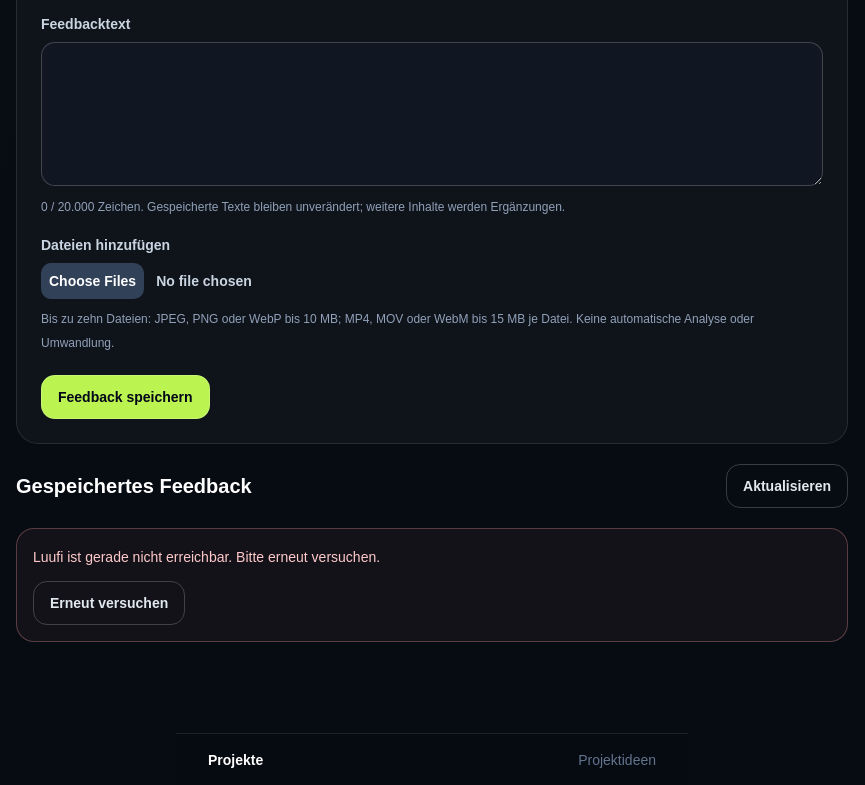
it: LUUFI-12 Feedback lesen und ergänzen › wiederholt einen fehlgeschlagenen Leseabruf und erklärt leere Listen
(page scrolled)
Check: the message shows "nicht erreichbar", box [33,549,380,565]
Click the button "Erneut versuchen" at [109, 603], box [33,581,185,625]
(page scrolled)
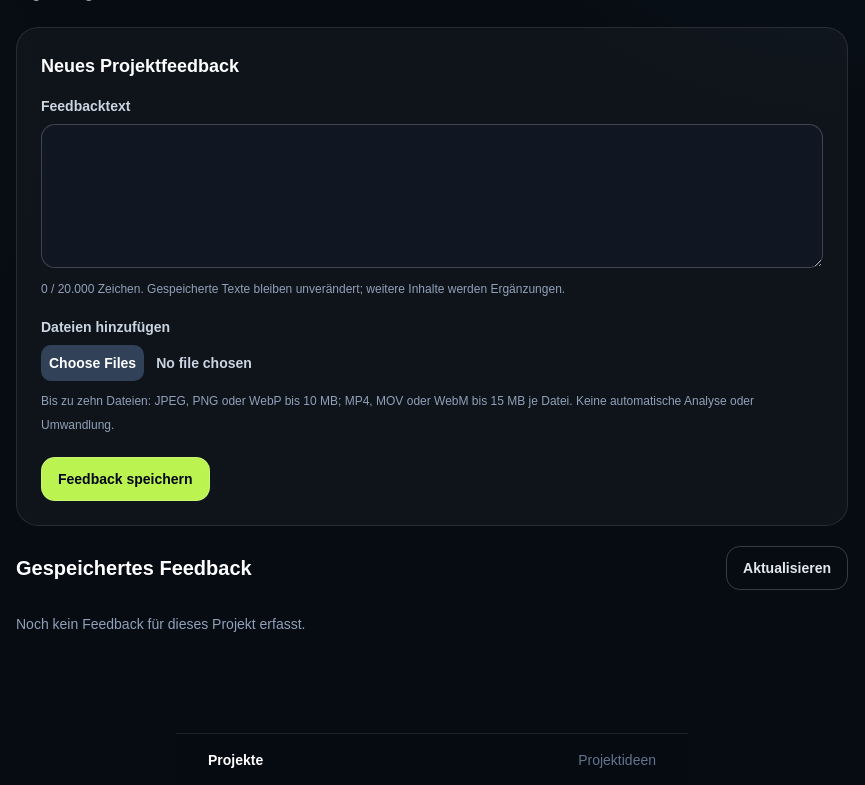
Check: the text "Noch kein Feedback für dieses Projekt erfasst." is shown, box [16,616,306,632]
